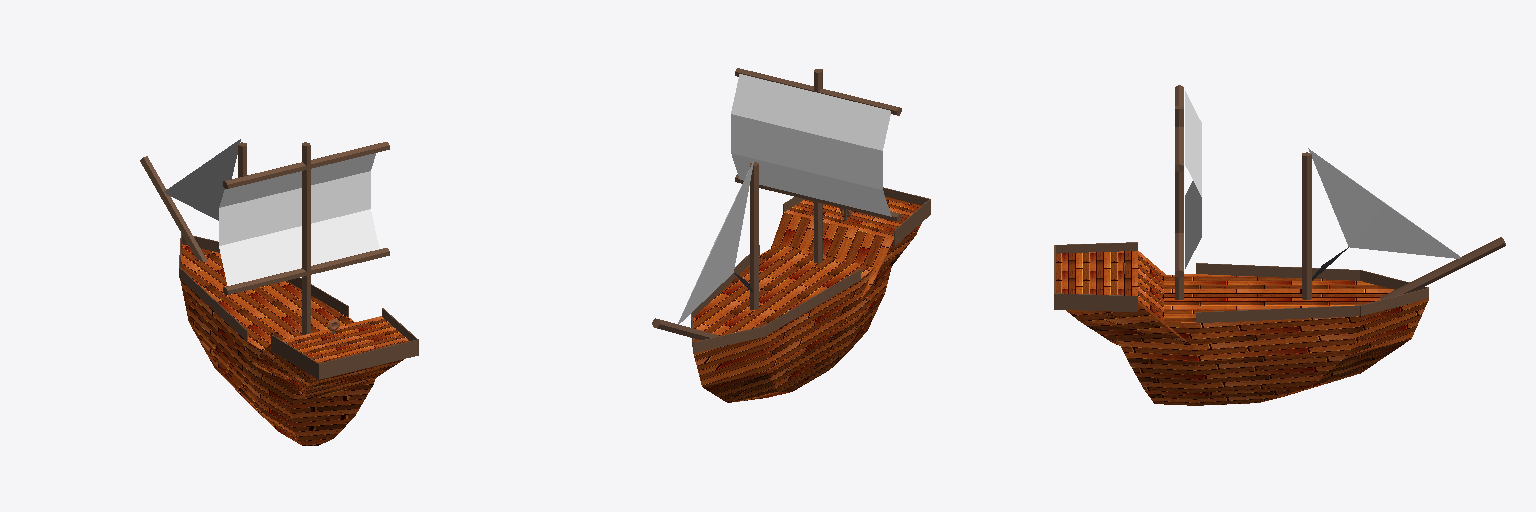
3 views of the same model, side by side, from view 1: azimuth 30°, elevation 25°; view 2: azimuth 150°, elevation 25°; view 3: azimuth 270°, elevation 25° (orthographic).
Parts seen in each view (by area): view 1: Object.6, Object.10, Object.7, Object.9, Object.1, Object.8, Object.16, Object.3, Object.13, Object.14, Object.15, Object.11 (+1 smaller); view 2: Object.6, Object.8, Object.7, Object.9, Object.10, Object.1, Object.3, Object.12, Object.14, Object.13, Object.17, Object.15 (+2 smaller); view 3: Object.6, Object.7, Object.1, Object.3, Object.16, Object.12, Object.11, Object.8, Object.10, Object.13, Object.17, Object.14.
Part boxes in pixels (bbox=[...]): Object.6: bbox=[180, 244, 375, 445]; Object.10: bbox=[219, 209, 378, 285]; Object.7: bbox=[253, 316, 408, 397]; Object.9: bbox=[219, 171, 370, 245]; Object.1: bbox=[165, 139, 240, 220]; Object.8: bbox=[219, 153, 375, 207]; Object.16: bbox=[319, 308, 418, 378]; Object.3: bbox=[179, 233, 348, 340]; Object.13: bbox=[302, 142, 310, 334]; Object.14: bbox=[223, 142, 389, 188]; Object.15: bbox=[223, 248, 389, 295]; Object.11: bbox=[140, 156, 206, 261]; Object.6: bbox=[693, 244, 891, 402]; Object.8: bbox=[731, 74, 890, 150]; Object.7: bbox=[771, 197, 921, 298]; Object.9: bbox=[731, 114, 882, 189]; Object.10: bbox=[731, 153, 891, 216]; Object.1: bbox=[678, 161, 753, 323]; Object.3: bbox=[691, 245, 860, 352]; Object.12: bbox=[750, 162, 758, 309]; Object.14: bbox=[735, 68, 901, 115]; Object.13: bbox=[814, 69, 822, 263]; Object.17: bbox=[894, 199, 930, 246]; Object.15: bbox=[735, 174, 901, 221]; Object.6: bbox=[1115, 274, 1428, 405]; Object.7: bbox=[1056, 251, 1188, 345]; Object.1: bbox=[1308, 148, 1461, 258]; Object.3: bbox=[1196, 263, 1428, 322]; Object.16: bbox=[1054, 245, 1137, 311]; Object.12: bbox=[1302, 152, 1311, 299]; Object.11: bbox=[1380, 237, 1505, 299]; Object.8: bbox=[1185, 91, 1201, 196]; Object.10: bbox=[1185, 181, 1201, 268]; Object.13: bbox=[1175, 106, 1183, 299]; Object.17: bbox=[1056, 242, 1137, 253]; Object.14: bbox=[1175, 85, 1183, 172].
Bounding box in the file's own units: 16 × 28 × 38.64.
Materials: 6 (1 with a texture image).